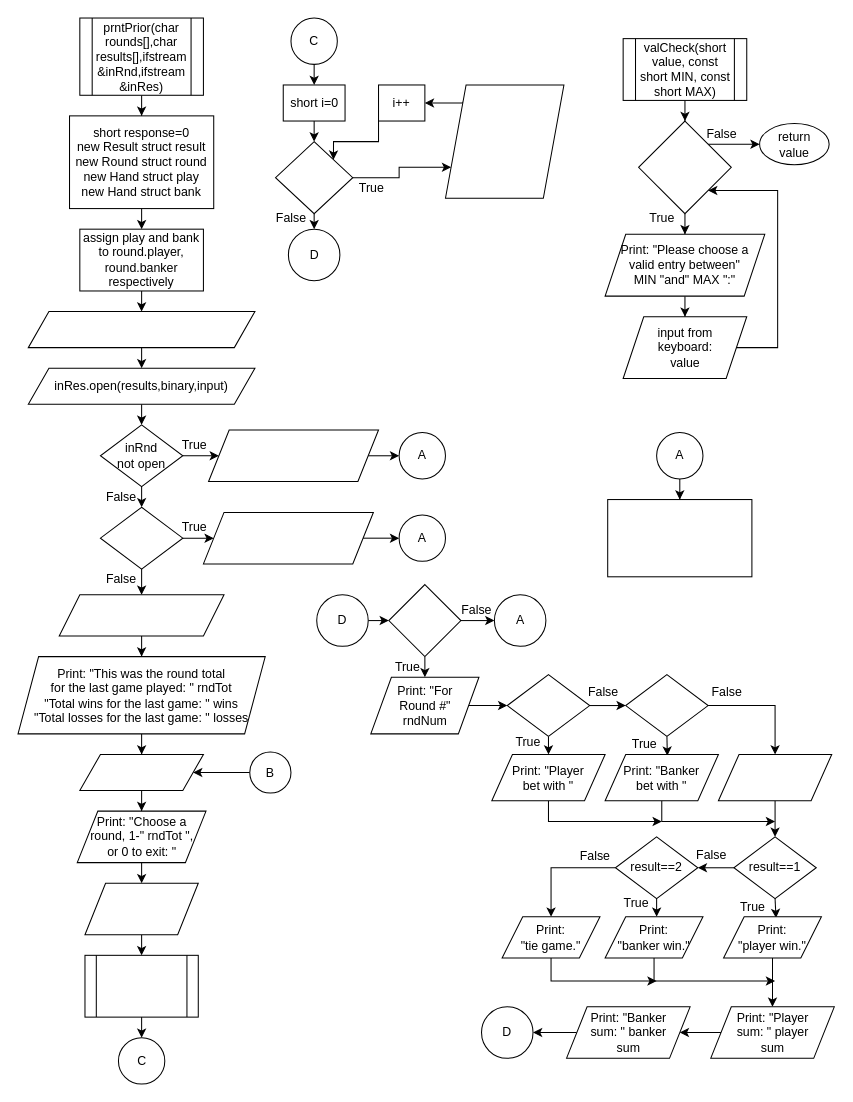
This 853x1102 diagram has some shape labels left out. Each missing label, with the box of its shape:
betType==1: (506, 674, 590, 736)
betType==2: (625, 674, 708, 736)
delete round->player delete round->banker delete round delete result: (607, 499, 752, 577)
i<response: (274, 141, 353, 214)
input from keyboard: response: (84, 882, 198, 935)
inRes not open: (99, 506, 183, 569)
inRes.read to rndTot, wins, losses: (58, 594, 224, 636)
inRnd.open(rounds,binary,input): (27, 311, 255, 348)
inRnd.read: rndNum, betType, result, banker sum, player sum: (444, 84, 564, 198)
inRnd.seekg(0): (79, 753, 203, 791)
Print: "No Result file to open. This must be the first run!": (202, 511, 373, 564)
Print: "No Round file to open. This must be the first run!": (208, 429, 379, 482)
Print: "Tie bet with ": (717, 753, 832, 801)
response != 0: (388, 583, 461, 657)
response= valCheck (response, 0, rndTot): (84, 954, 198, 1017)
value<MIN or value>MAX: (638, 120, 731, 214)
